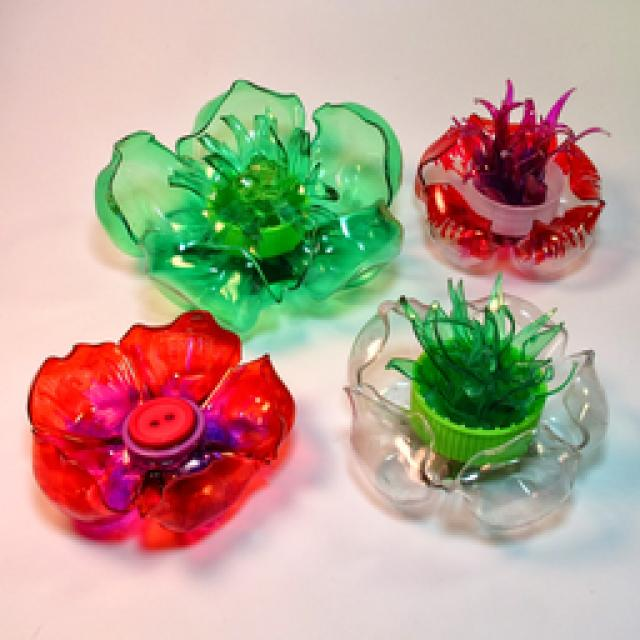plastic: (32, 80, 400, 545), (345, 275, 602, 538), (418, 90, 602, 262)
